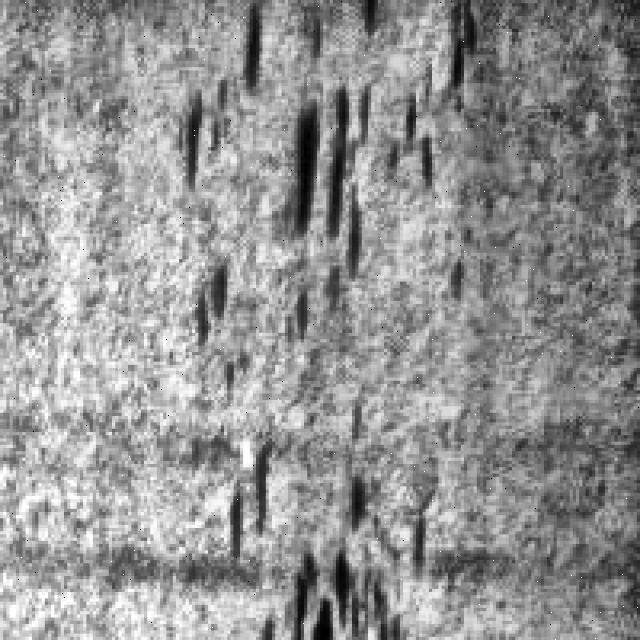Patches: (262, 470, 416, 636), (266, 74, 388, 276), (179, 243, 253, 352)
